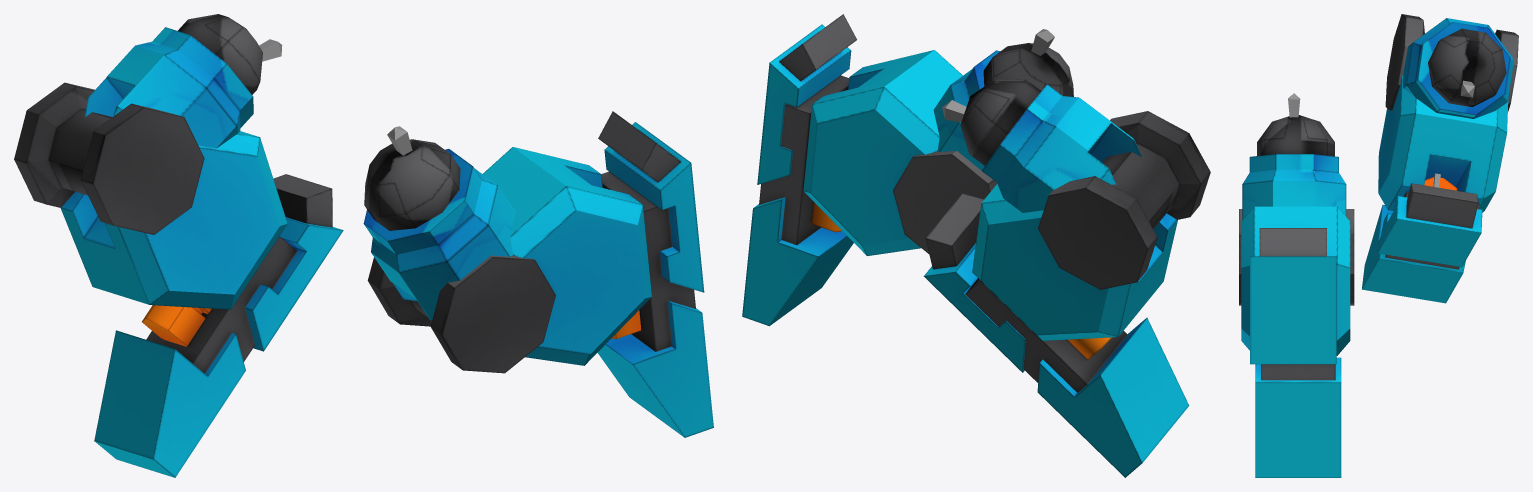
The model's file is Bottom_Running31.obj.
3 views of the same model, side by side, from view 1: azimuth 30°, elevation 25°; view 2: azimuth 150°, elevation 25°; view 3: azimuth 270°, elevation 25° (orthographic). The views are drawn at different scales.
Parts seen in each view (by area): view 1: Object010, Object013, Object011, Object014, Object012, Object009; view 2: Object010, Object013, Object011, Object014, Object009, Object012; view 3: Object014, Object010, Object011, Object009, Object012, Object013.
Part boxes in pixels (x1,y1,x2,y2): Object010: (14,82,287,309); Object013: (367,147,651,373); Object011: (94,174,343,477); Object014: (597,111,713,437); Object012: (363,139,515,320); Object009: (84,14,262,148); Object010: (972,111,1210,340); Object013: (803,50,997,255); Object011: (923,193,1189,477); Object014: (742,14,856,326); Object009: (960,79,1141,212); Object012: (933,43,1073,170); Object014: (1250,228,1341,477); Object010: (1378,14,1518,212); Object011: (1362,177,1482,303); Object009: (1403,18,1513,118); Object012: (1242,115,1346,219); Object013: (1239,206,1354,355).
Bounding box in the file's own units: 157 × 113 × 91.69.
